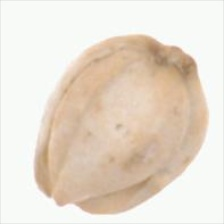L1: (142, 35, 200, 84), (35, 176, 93, 213)
L2: (34, 33, 208, 214)
